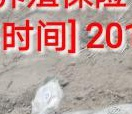text: (32, 83, 61, 108)
